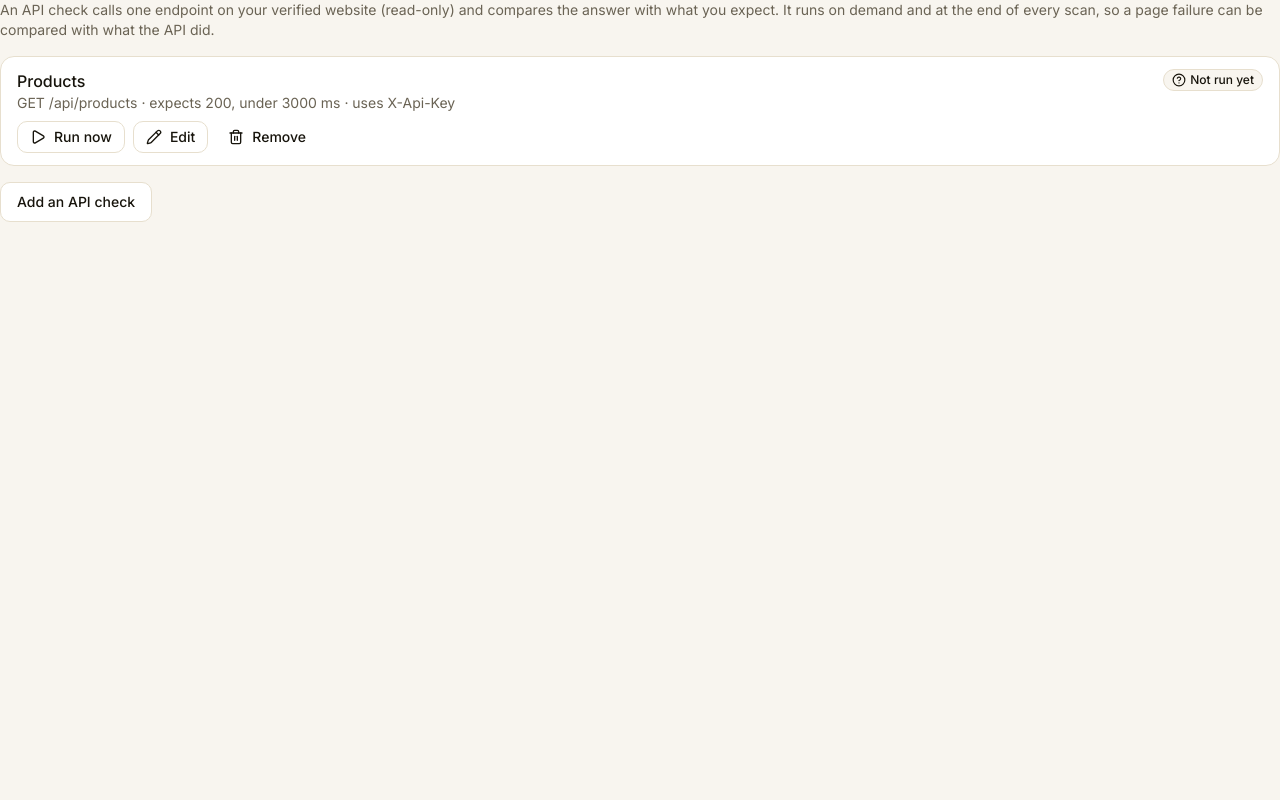
ApiChecksCard › never shows a stored credential, only that one exists
Check: the text "uses X-Api-Key" is shown, box left=340, top=94, right=455, bottom=111
Click the button with aria-label "Edit Products": (171, 137) left=133, top=121, right=208, bottom=153
(page scrolled)
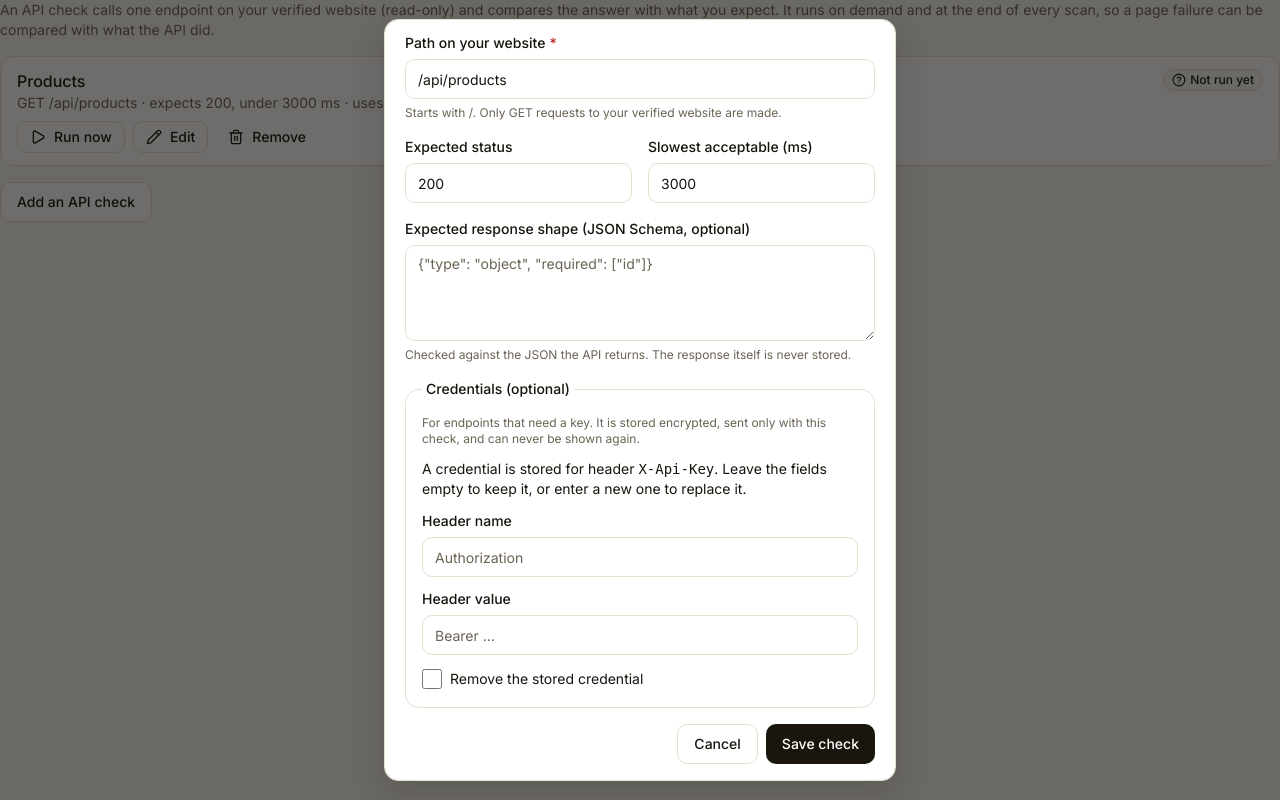
Check: the text "A credential is stored for header" is shown, box left=422, top=460, right=638, bottom=477
Check: the password field labelled "Header value" is empty, box left=422, top=615, right=858, bottom=655
